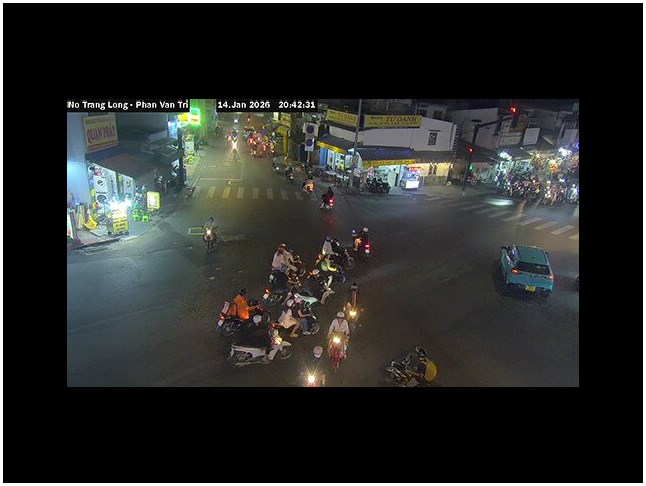car: (493, 242, 555, 295)
motorbike: (221, 314, 293, 364), (385, 344, 439, 385)
